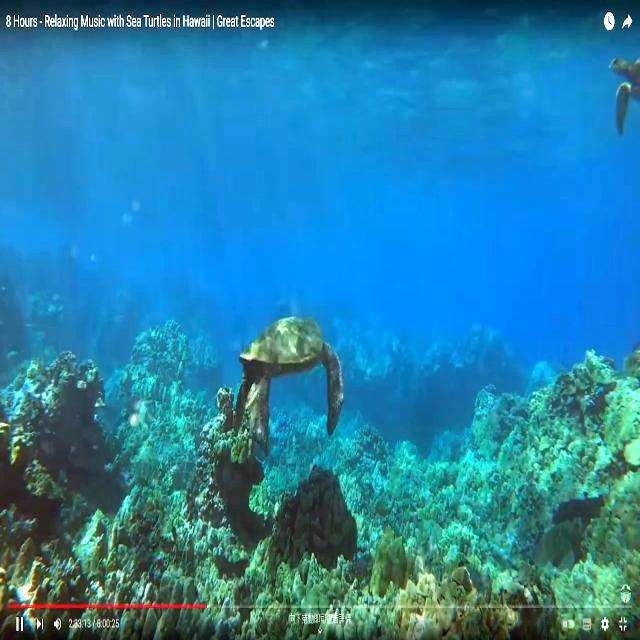Sea turtle: (232, 308, 346, 436)
